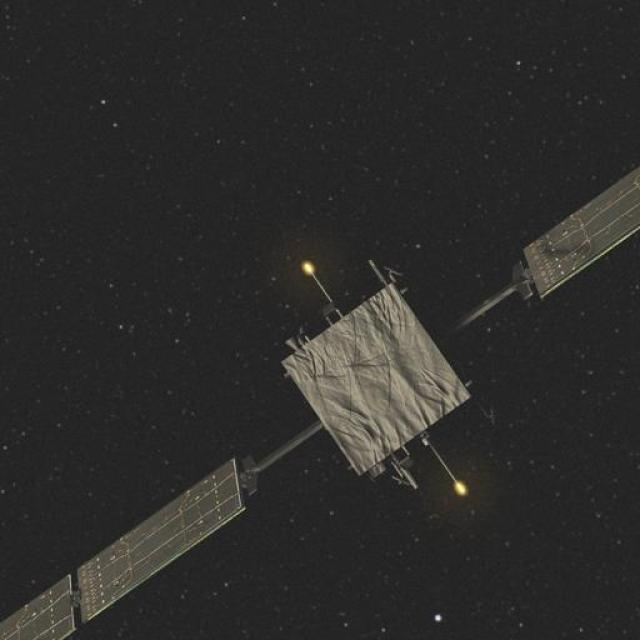smart_1: (250, 222, 509, 538)
